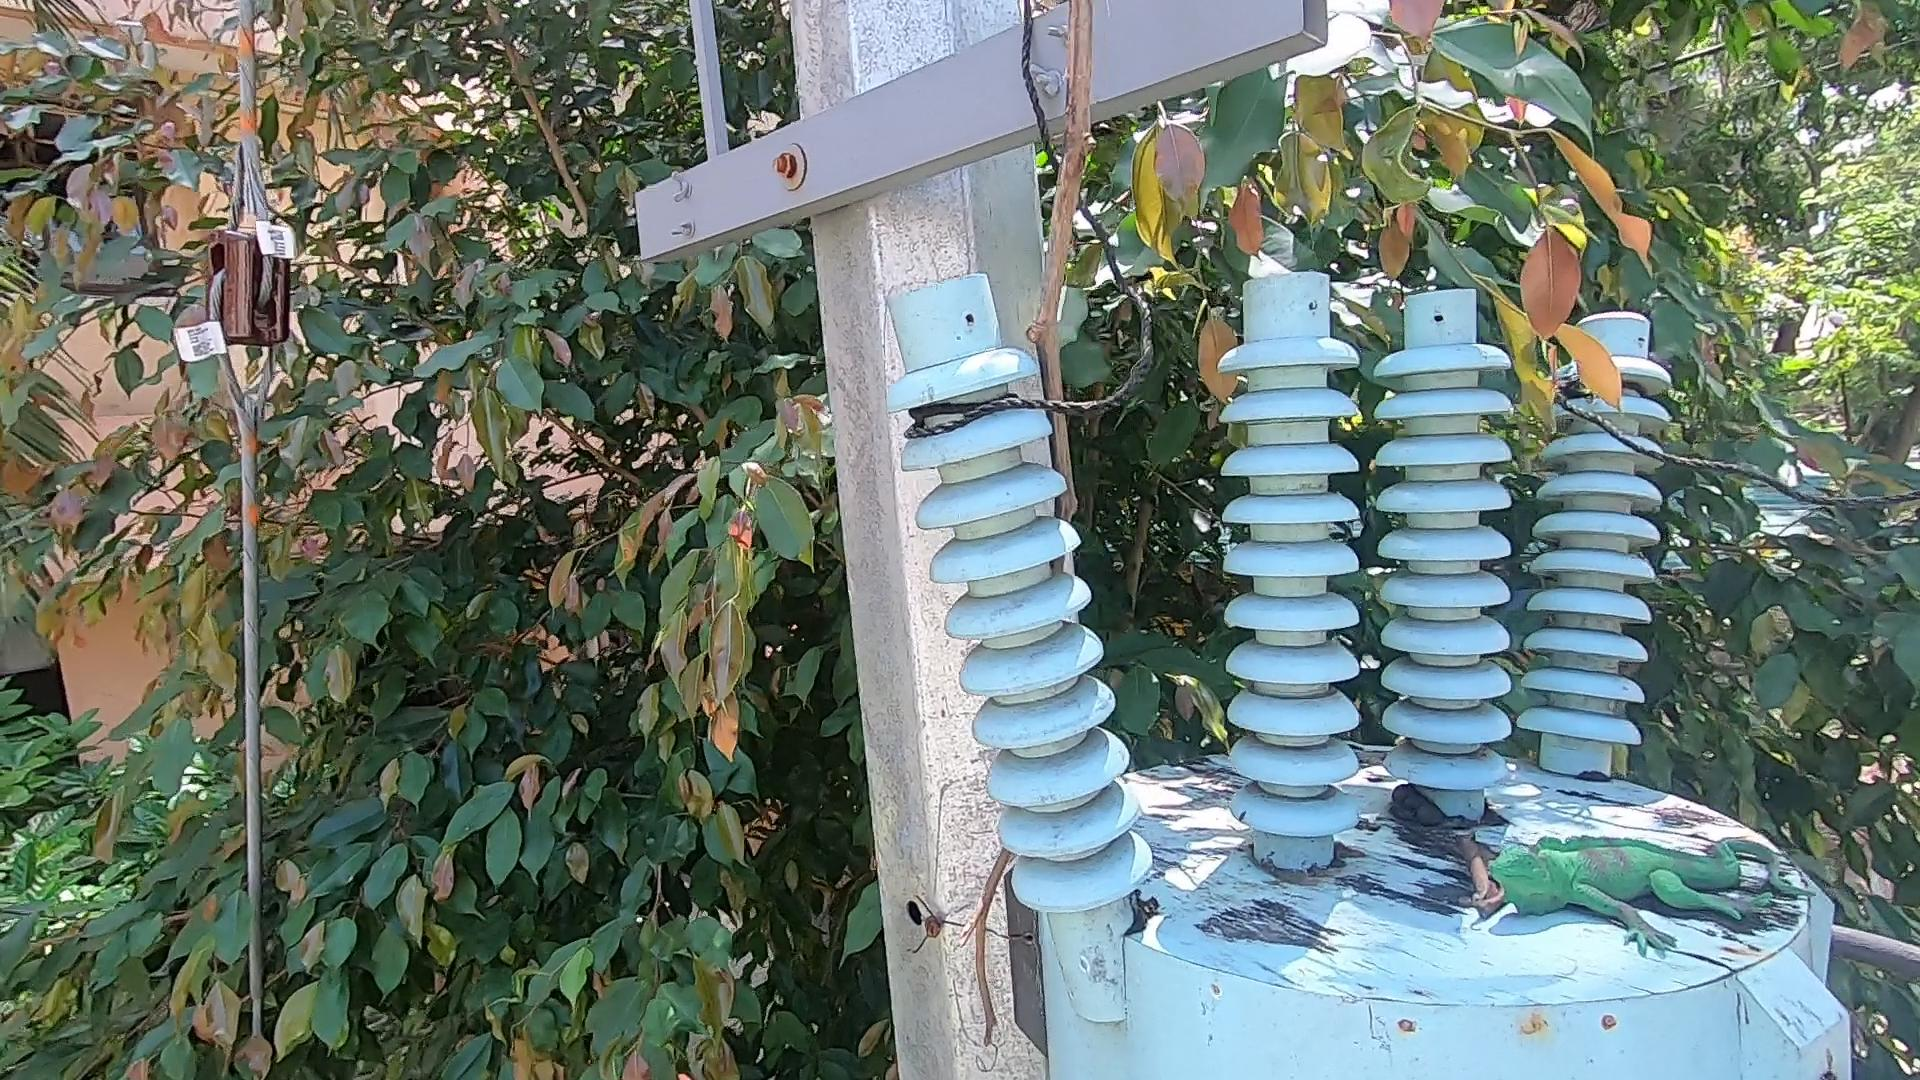branch with leaves: (1315, 236, 1691, 465)
leaf: (1460, 825, 1510, 930), (1120, 889, 1164, 944), (1395, 782, 1447, 825)
tree branch: (876, 3, 1088, 1052)
